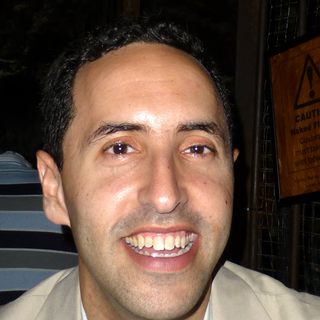eye: (96, 138, 144, 164), (173, 139, 220, 162)
